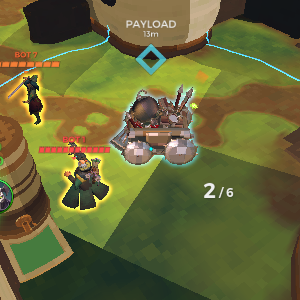model: (57, 154, 113, 214), (13, 73, 49, 129)
